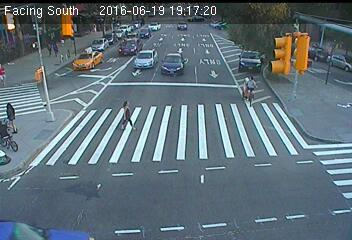neg: (237, 71, 263, 105), (40, 167, 61, 195), (283, 68, 304, 95), (278, 153, 297, 178), (232, 142, 251, 166), (29, 66, 48, 90), (66, 87, 84, 111), (237, 180, 255, 204), (264, 22, 281, 45), (92, 48, 109, 70), (71, 139, 87, 161), (168, 196, 184, 217), (200, 165, 215, 185), (317, 105, 332, 125), (120, 159, 134, 178), (194, 109, 208, 128), (83, 188, 95, 205), (193, 81, 204, 96), (204, 25, 214, 39), (180, 150, 190, 163), (113, 22, 123, 34), (161, 108, 170, 121), (166, 48, 172, 56)
pos: (114, 96, 137, 127), (50, 39, 62, 54), (42, 39, 53, 54)
